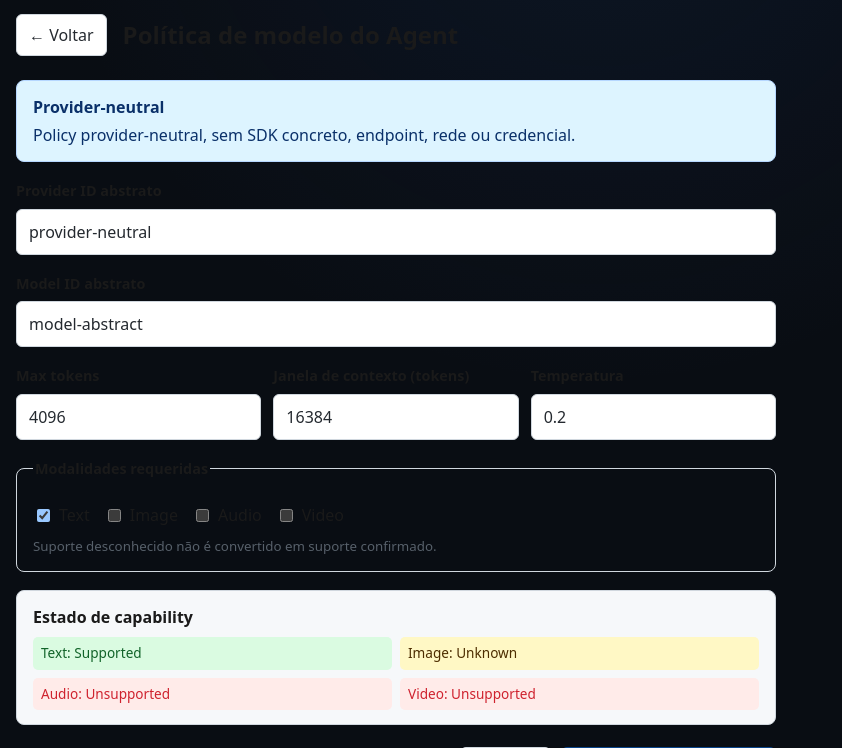
Test case: ModelPolicyPage › maps stale updates to a conflict and preserves the form
This screenshot has width=842, height=748.
Expected: the field showing "provider-neutral" is shown, [16,209,776,255]
Replace the text in the field labelled "Model ID abstrato" with "model-new". click: (396, 324)
box: [16,301,776,347]
(page scrolled)
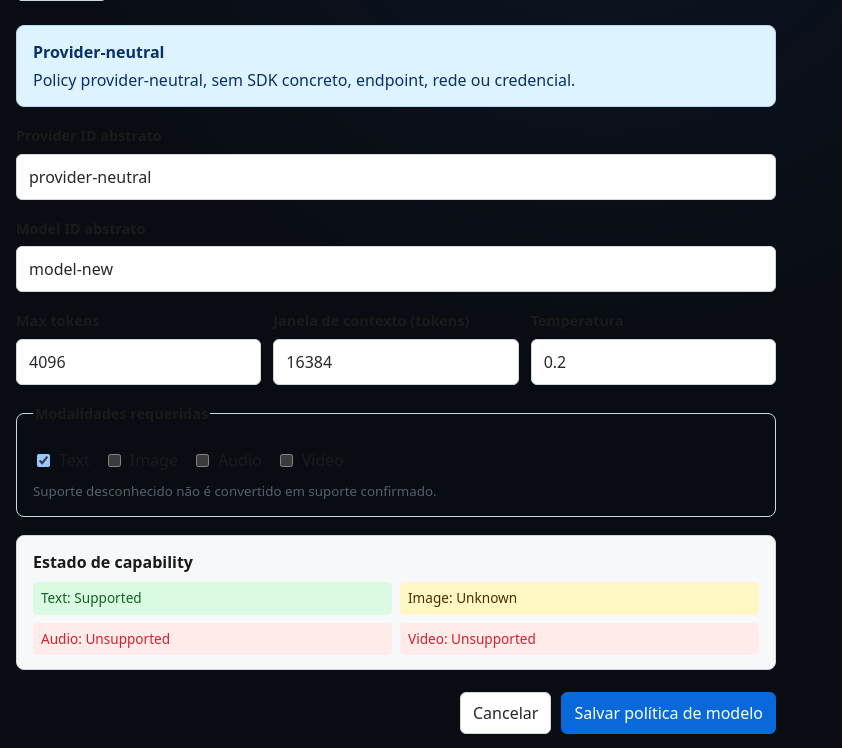
Click the button "Salvar política de modelo". click: (669, 713)
box: [561,692,776,734]
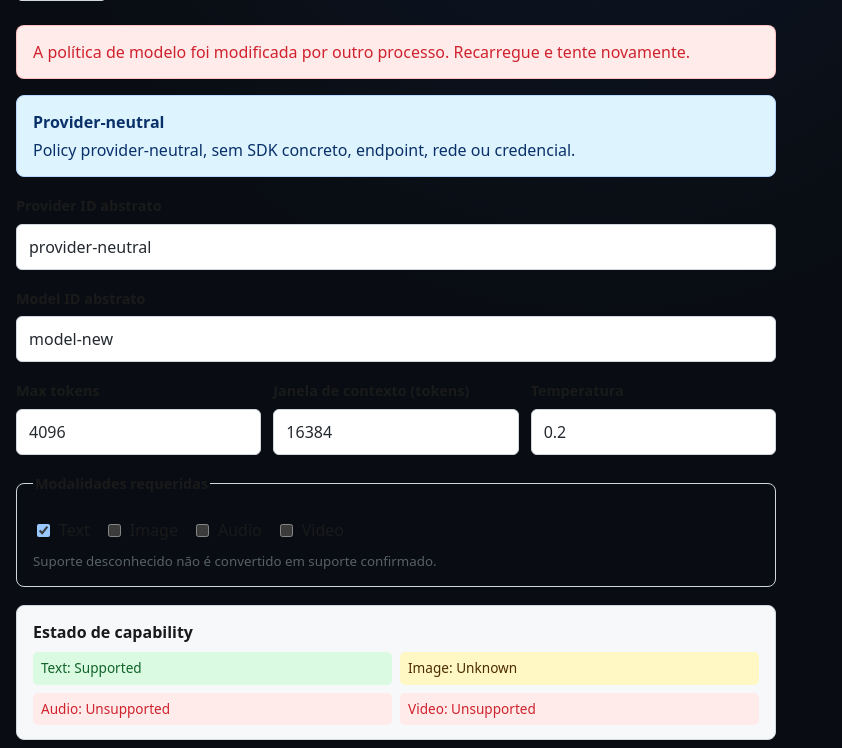
Expected: the message shows "modificada por outro processo", [33,41,690,63]
